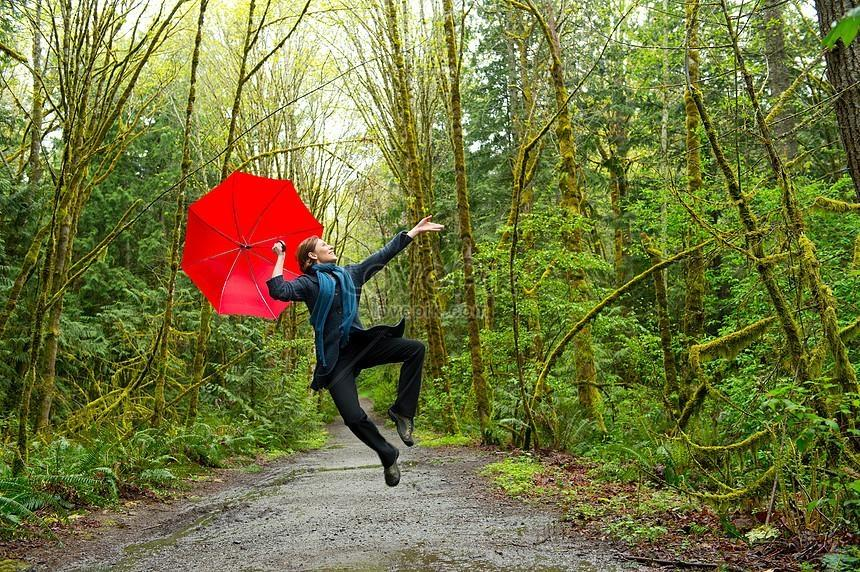Umbrella: (179, 160, 330, 325)
